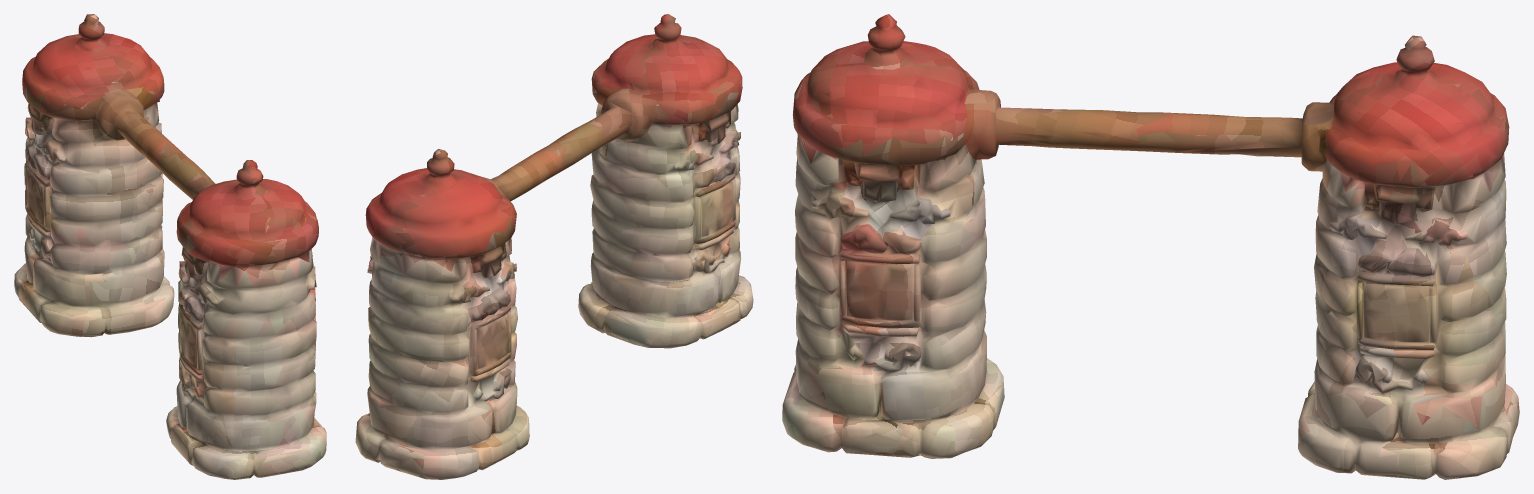
Rendered from KR_사물_s1_sm_gate.glb.
3 views of the same model, side by side, from view 1: azimuth 30°, elevation 25°; view 2: azimuth 150°, elevation 25°; view 3: azimuth 270°, elevation 25° (orthographic). The views are drawn at different scales.
Parts seen in each view (by area): view 1: tripo_node_9957a72c-b329-497c-9aa1-f2e25d6c8dcb; view 2: tripo_node_9957a72c-b329-497c-9aa1-f2e25d6c8dcb; view 3: tripo_node_9957a72c-b329-497c-9aa1-f2e25d6c8dcb.
Part boxes in pixels (<box>): tripo_node_9957a72c-b329-497c-9aa1-f2e25d6c8dcb: <box>14,14,326,479</box>; tripo_node_9957a72c-b329-497c-9aa1-f2e25d6c8dcb: <box>355,14,753,479</box>; tripo_node_9957a72c-b329-497c-9aa1-f2e25d6c8dcb: <box>782,14,1519,479</box>.
Bounding box in the file's own units: 0.3598 × 0.6099 × 1.
1 material, 1 textured.
